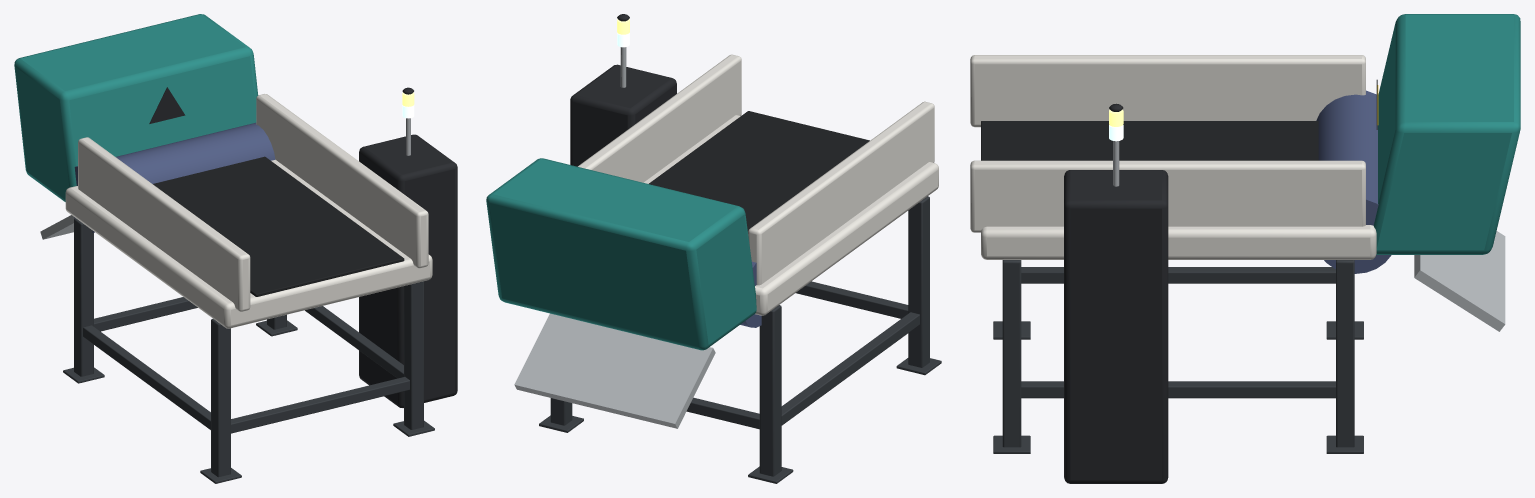
The model's file is eddy_current.fbx.
3 views of the same model, side by side, from view 1: azimuth 30°, elevation 25°; view 2: azimuth 150°, elevation 25°; view 3: azimuth 270°, elevation 25° (orthographic). The views are drawn at different scales.
Visible parts, largest first — view 1: eddy_current; view 2: eddy_current; view 3: eddy_current.
Boxes of the visible parts, x1,y1,x2,y2 form: eddy_current: [14, 14, 457, 483]; eddy_current: [486, 14, 941, 483]; eddy_current: [970, 14, 1520, 483].
Size of the model in its own units: 1.84 by 1.92 by 2.64.
